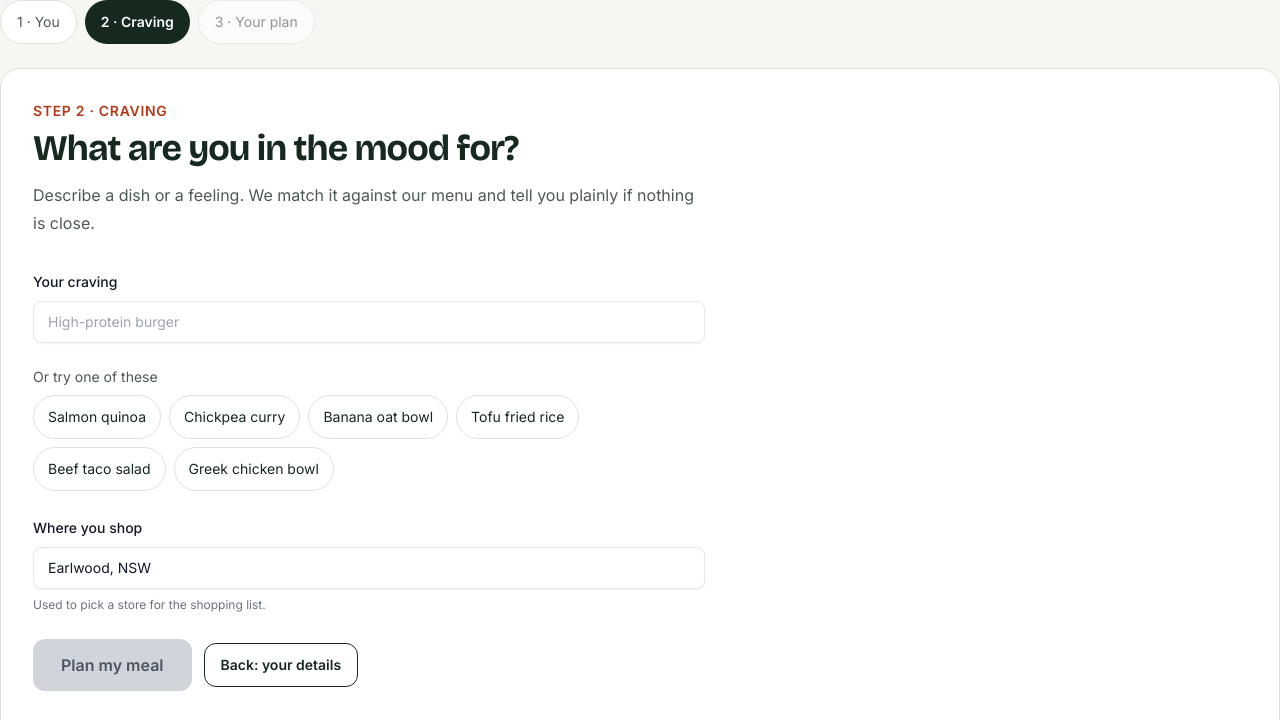
MealFlow error text › still prefers the backend's detail when there is one
Note: Two characters: one is now refused before sending (MealRequest's minimum).
In the field labelled "Your craving": (369, 322) [33,301,705,343], type "xy"
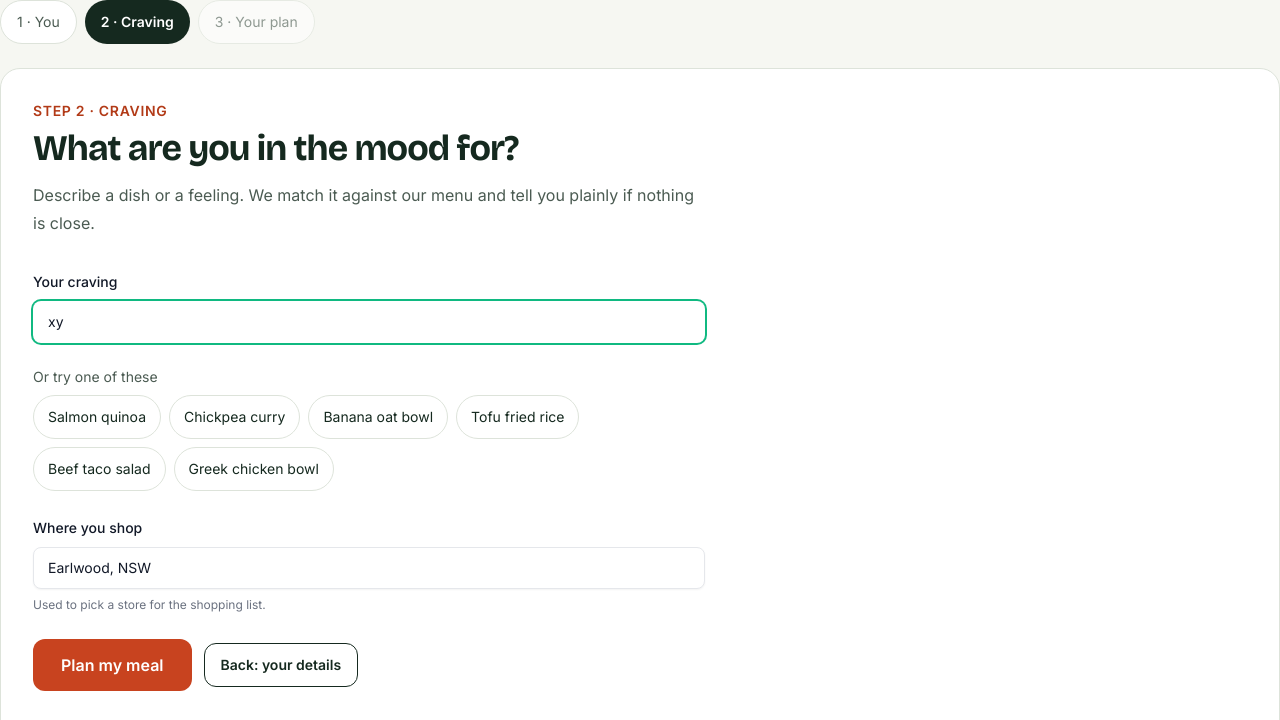
Click the button "Plan my meal": (112, 665) [33,639,192,691]
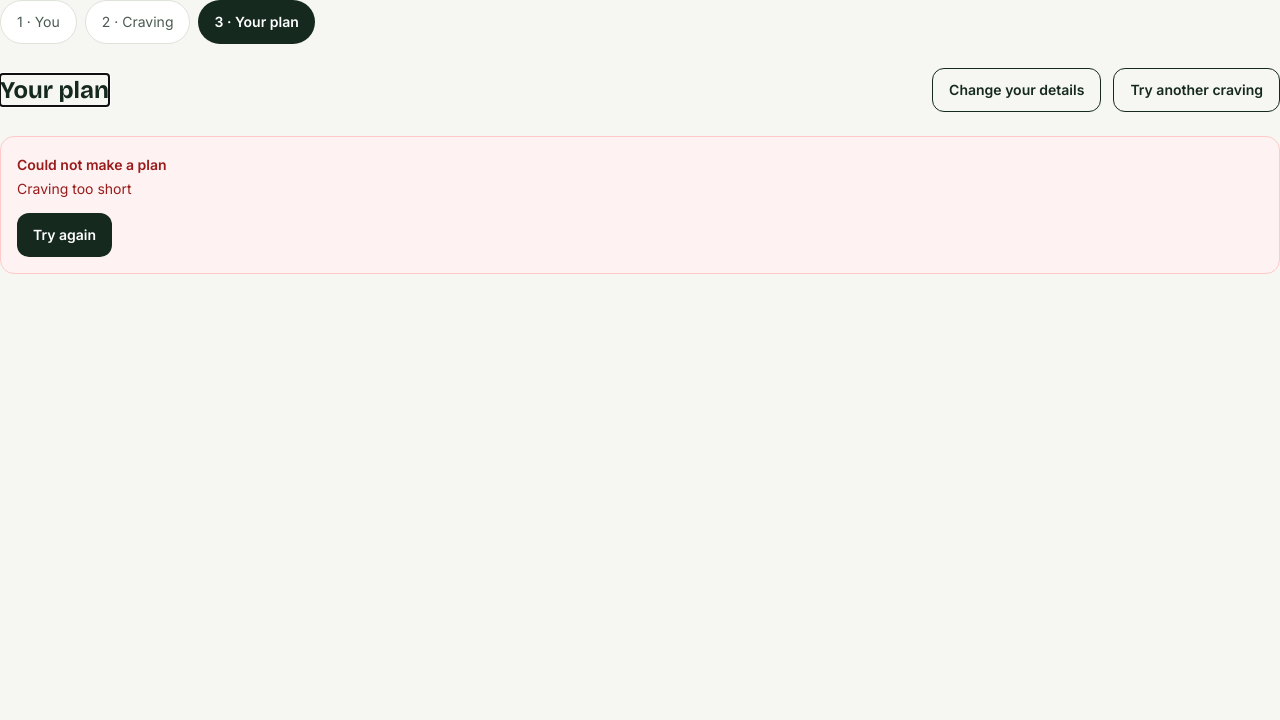
Expected: the text "Craving too short" is shown, [17,180,132,197]
